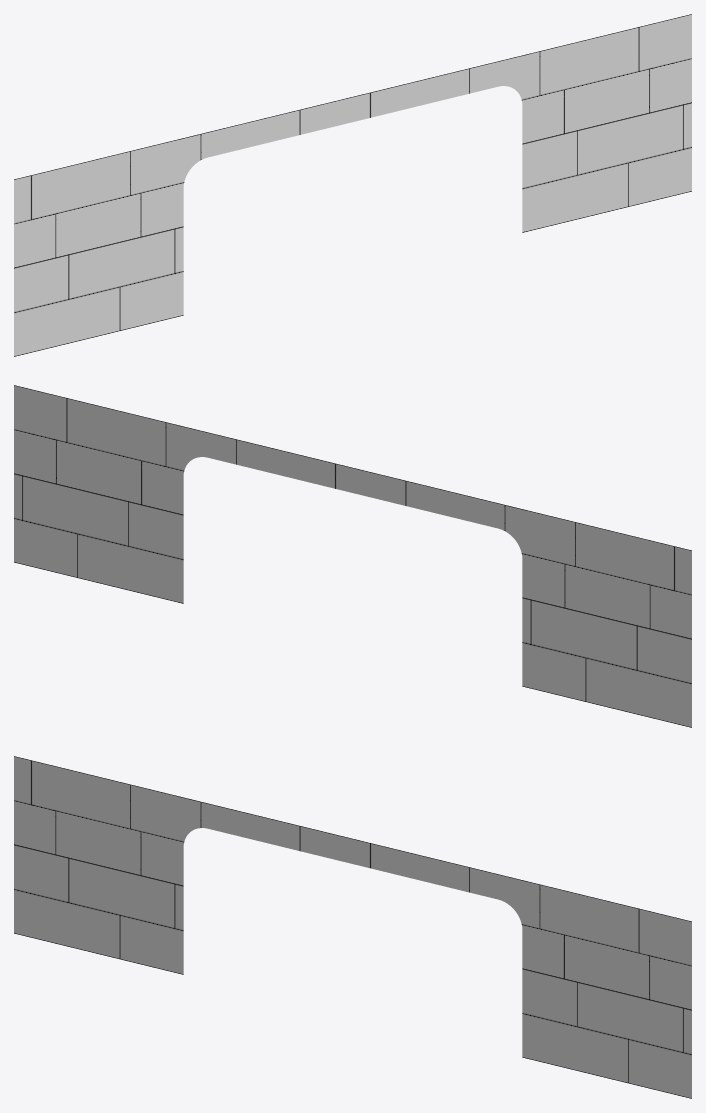
The model's file is Wall1400cmFrameRound700cm.FBX.
3 views of the same model, one above another, from view 1: azimuth 30°, elevation 25°; view 2: azimuth 150°, elevation 25°; view 3: azimuth 330°, elevation 25° (orthographic).
Parts seen in each view (by area): view 1: Wall1400cmFrameRound700cm; view 2: Wall1400cmFrameRound700cm; view 3: Wall1400cmFrameRound700cm.
Part boxes in pixels (<box>): Wall1400cmFrameRound700cm: <box>14,14,691,356</box>; Wall1400cmFrameRound700cm: <box>14,385,691,727</box>; Wall1400cmFrameRound700cm: <box>14,756,691,1098</box>.
Size of the model in its own units: 1400 by 350 by 4.62e-05.
